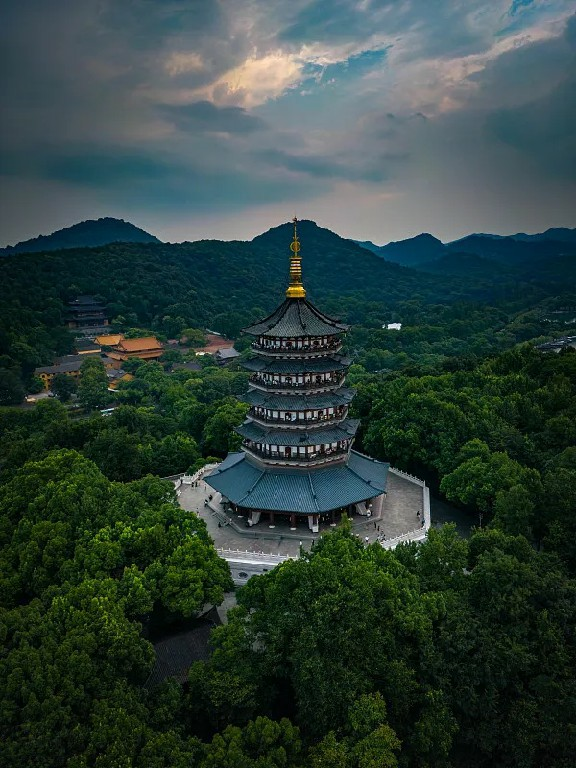Leifeng: (197, 214, 392, 532)
